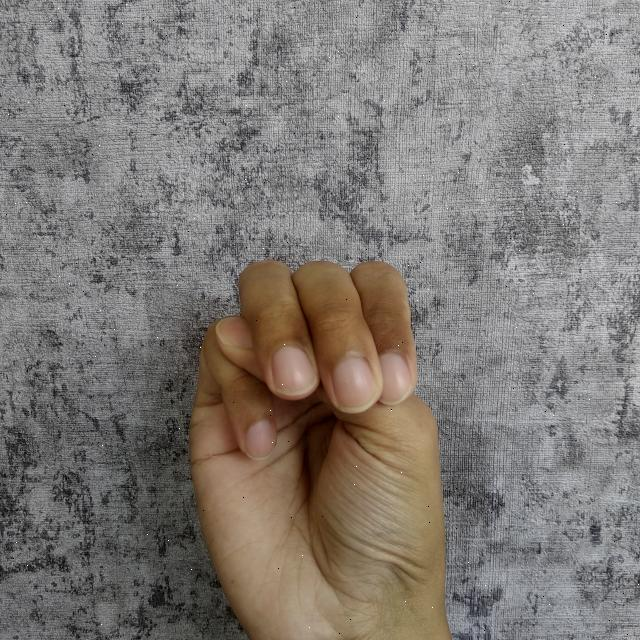M: (183, 253, 462, 640)
